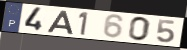0: (127, 16, 155, 42)
1: (77, 11, 89, 37)
4: (23, 6, 46, 34)
5: (156, 19, 178, 44)
6: (101, 13, 127, 40)
A: (46, 10, 74, 35)
